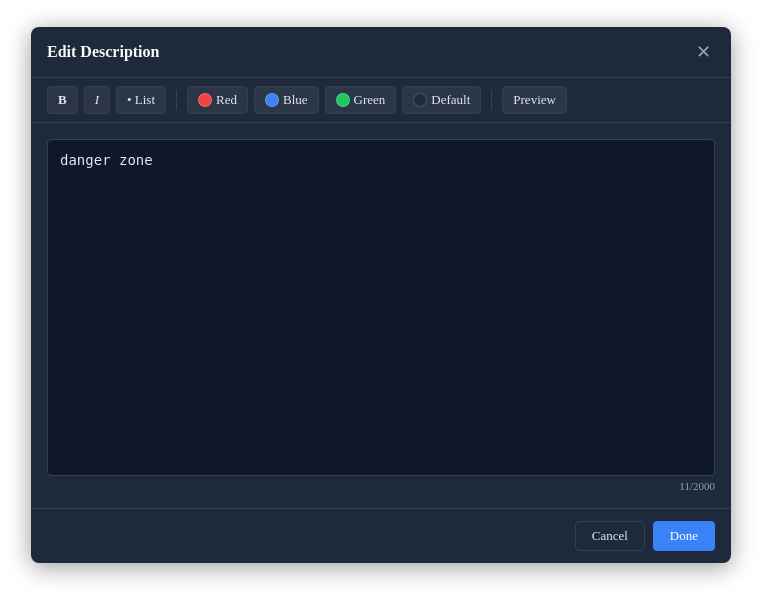
it: DescriptionModal › toolbar color buttons › wraps selected text with red color markers
This screenshot has width=763, height=599.
Click the button with test id "toolbar-color-red". click: [218, 100]
box: [187,86,248,114]
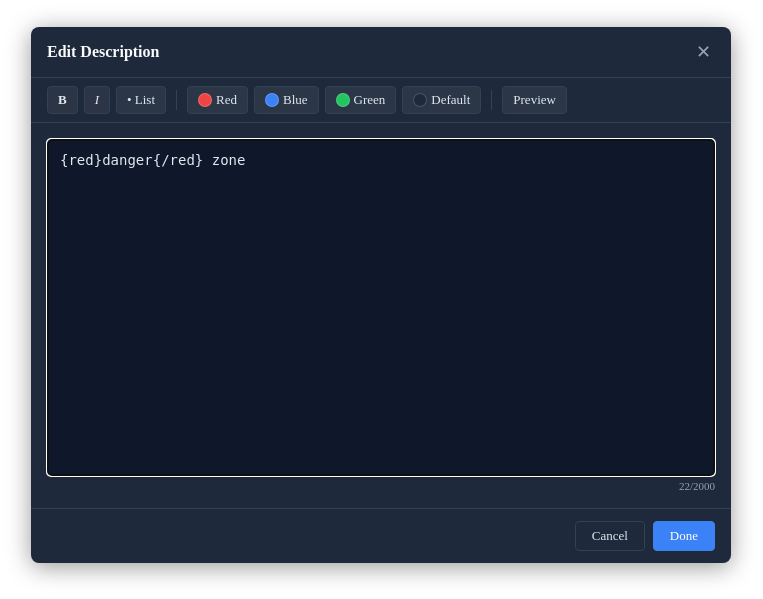
Expected: the text box with test id "description-modal-textarea" holds "{red}danger{/red} zone", [47,139,715,476]
